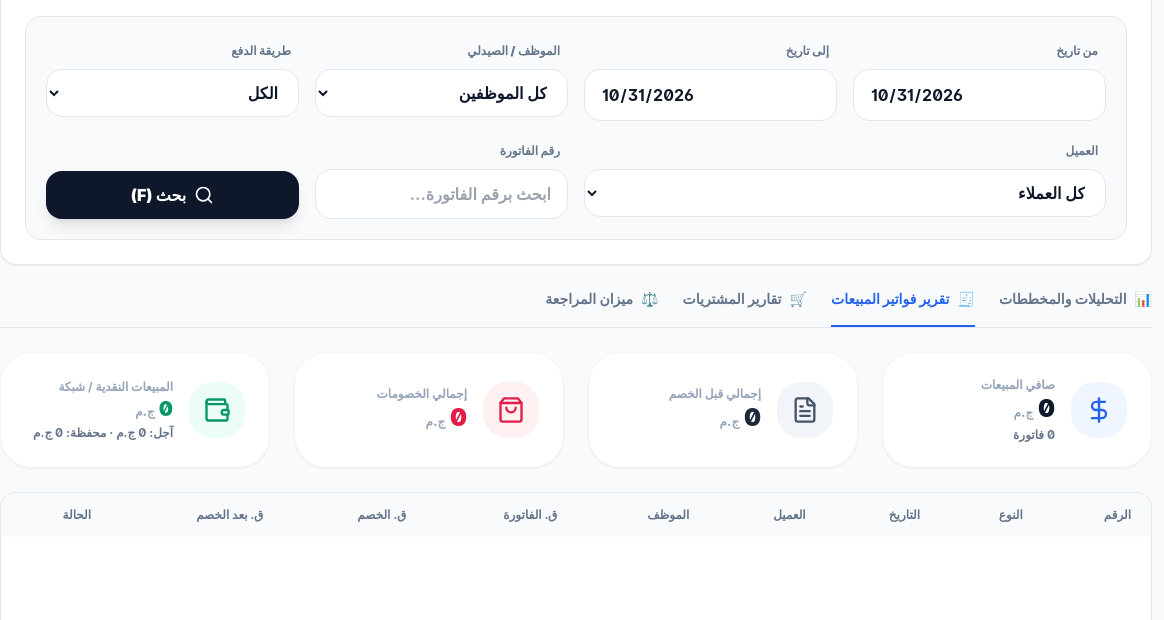
Test: report clients async response ordering › keeps the latest sales search result when an older request resolves afterwards
Type "old" into the field with placeholder "ابحث برقم الفاتورة..." at [442, 194], box top-left (315, 169), bottom-right (568, 219)
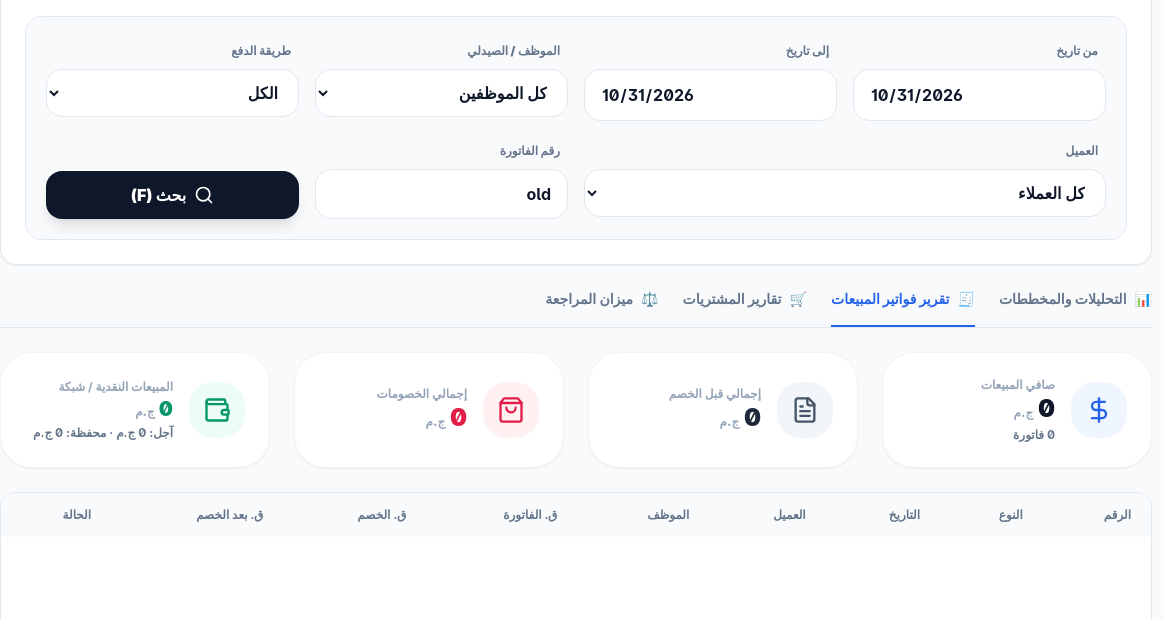
Click the button "بحث (F)" at [172, 195], box top-left (46, 171), bottom-right (299, 219)
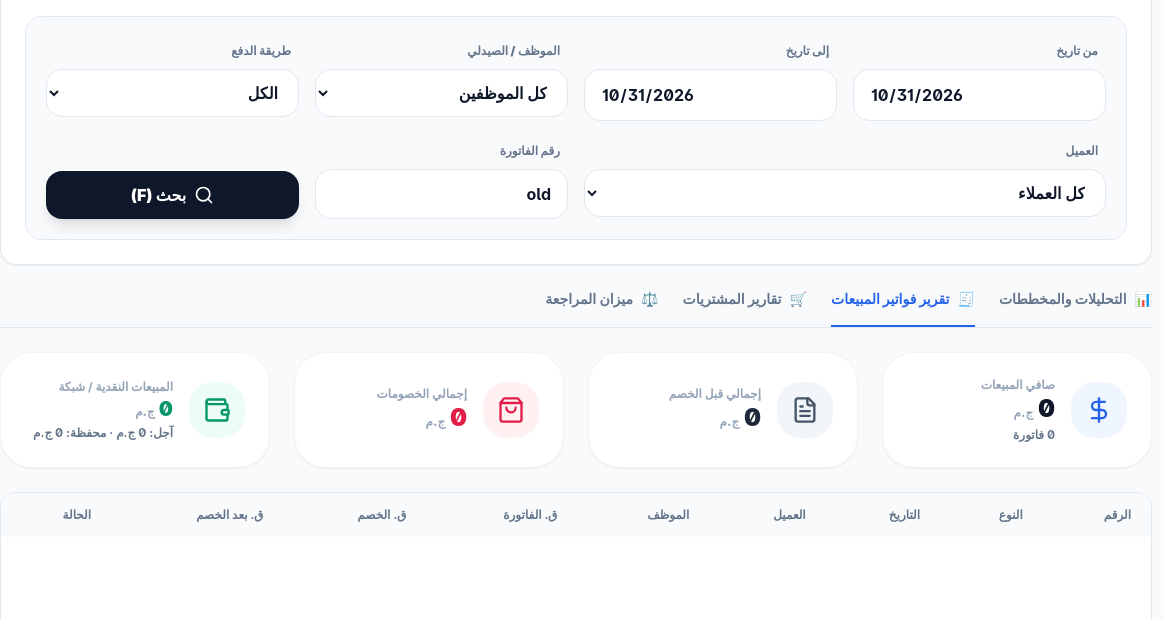
Replace the text in the field with placeholder "ابحث برقم الفاتورة..." with "new" at [442, 194], box top-left (315, 169), bottom-right (568, 219)
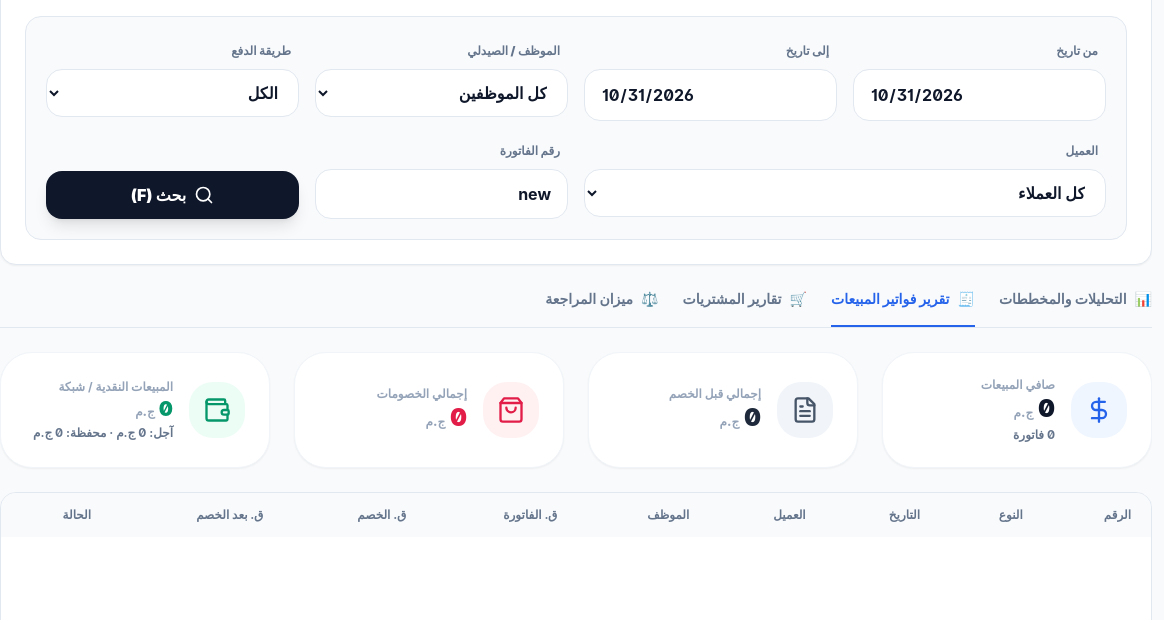
Click the button "بحث (F)" at [172, 195], box top-left (46, 171), bottom-right (299, 219)
(page scrolled)
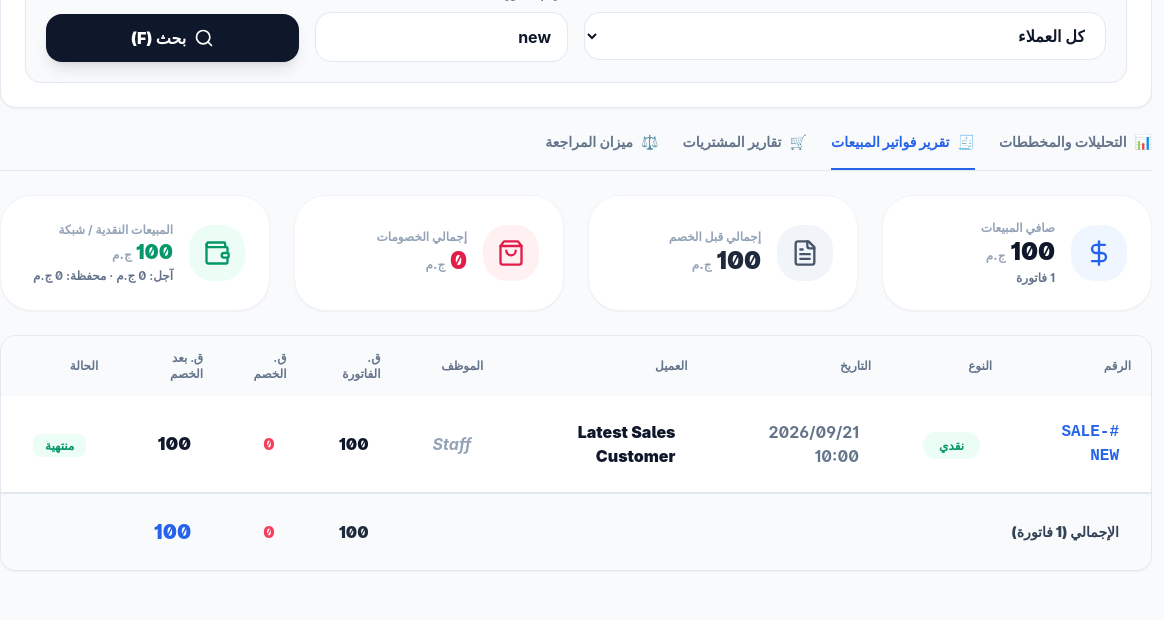
Expected: the text "Latest Sales Customer" is shown, top-left (503, 396), bottom-right (708, 493)
